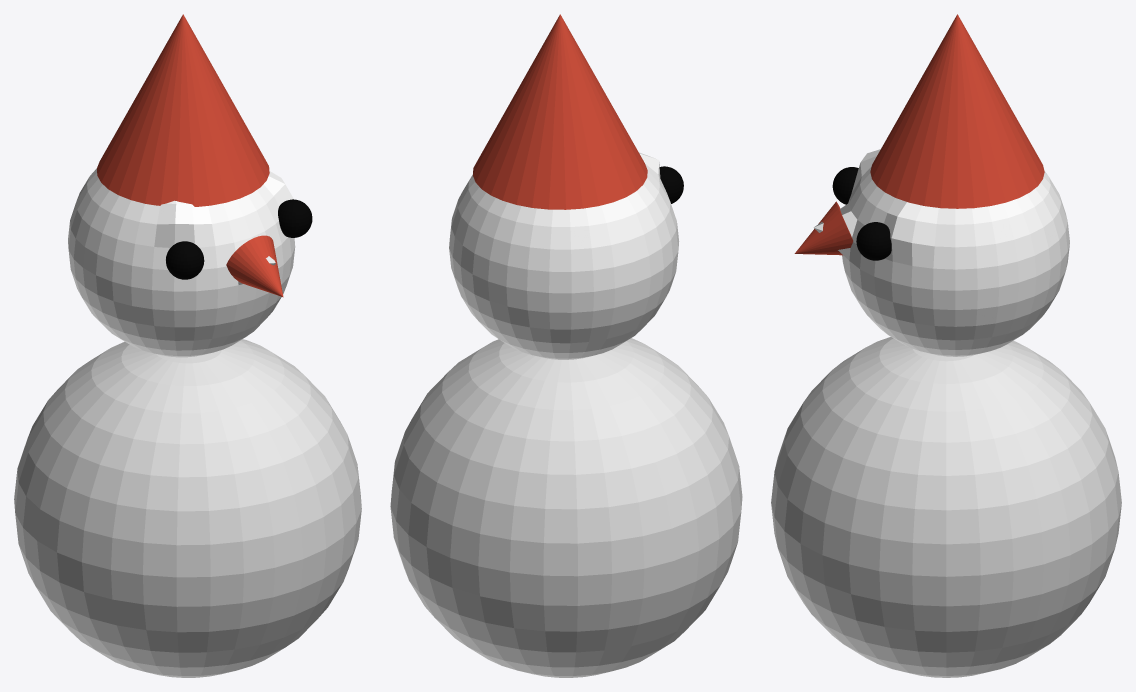
File: snowman.dae
3 views of the same model, side by side, from view 1: azimuth 30°, elevation 25°; view 2: azimuth 150°, elevation 25°; view 3: azimuth 270°, elevation 25° (orthographic).
Parts seen in each view (by area): view 1: Sphere_001, Sphere, Cone, Cone_001, Sphere_003, Sphere_002; view 2: Sphere_001, Sphere, Cone, Sphere_003; view 3: Sphere_001, Sphere, Cone, Cone_001, Sphere_002, Sphere_003.
Part boxes in pixels (bbox=[...]): Sphere_001: bbox=[14, 339, 361, 677]; Sphere: bbox=[68, 169, 295, 357]; Cone: bbox=[96, 14, 269, 206]; Cone_001: bbox=[226, 235, 283, 297]; Sphere_003: bbox=[166, 241, 204, 279]; Sphere_002: bbox=[278, 199, 312, 237]; Sphere_001: bbox=[390, 338, 742, 677]; Sphere: bbox=[449, 152, 679, 359]; Cone: bbox=[473, 14, 647, 209]; Sphere_003: bbox=[659, 166, 683, 203]; Sphere_001: bbox=[771, 337, 1121, 677]; Sphere: bbox=[813, 149, 1069, 356]; Cone: bbox=[870, 14, 1044, 208]; Cone_001: bbox=[794, 201, 853, 255]; Sphere_002: bbox=[856, 222, 891, 260]; Sphere_003: bbox=[832, 167, 858, 204].
Bounding box in the file's own units: 2 × 2 × 4.08.
